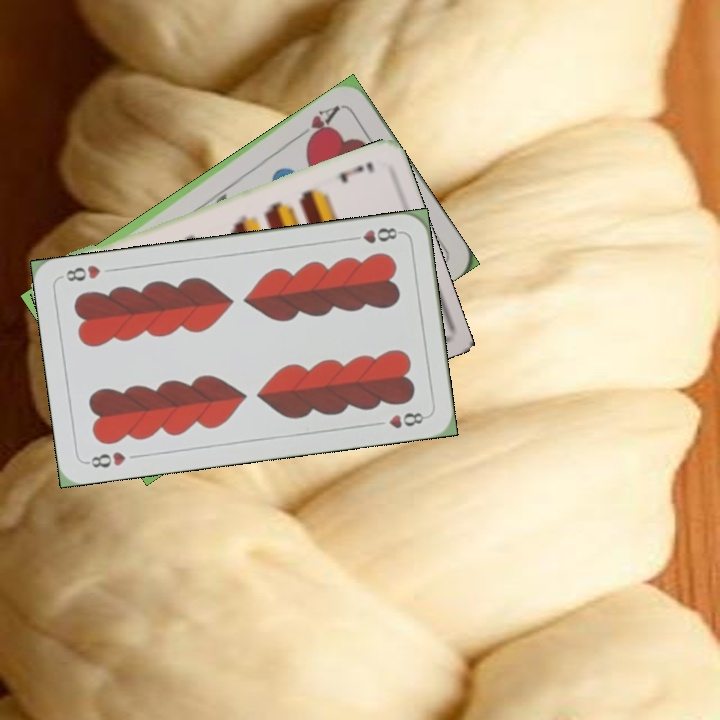E7: (335, 158, 377, 186)
H8: (345, 223, 404, 246), (82, 447, 128, 470)
HA: (293, 100, 343, 146)
